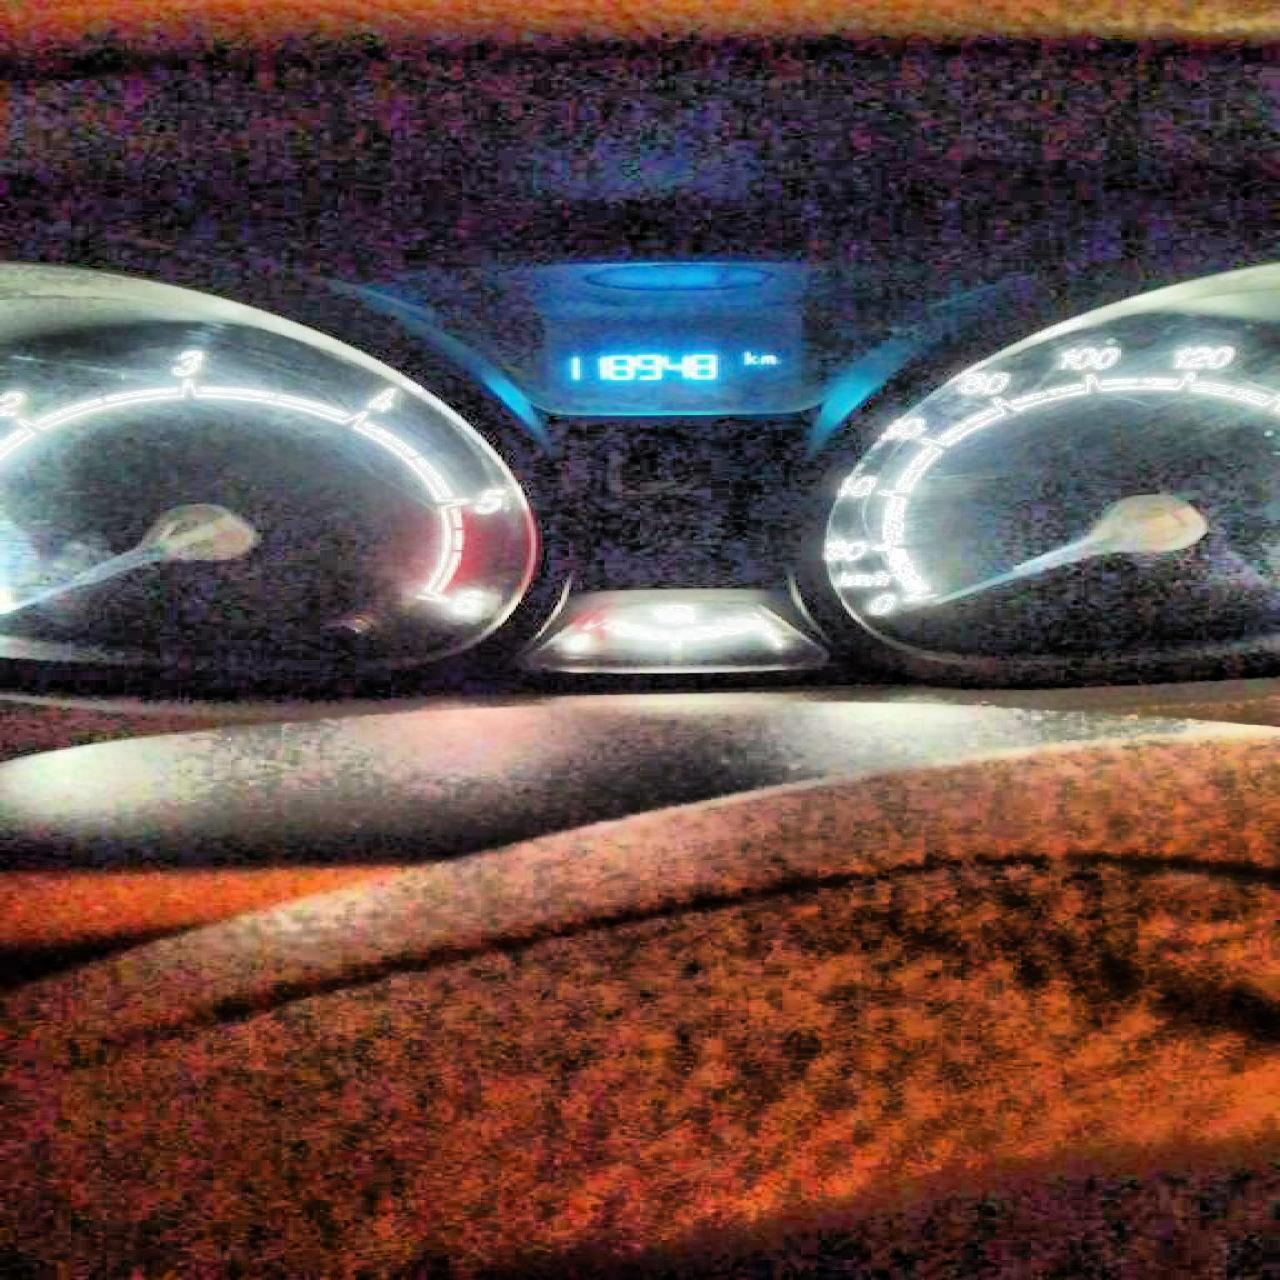1: (564, 352, 580, 380), (596, 355, 606, 380)
4: (662, 354, 687, 378)
8: (607, 352, 633, 382), (689, 352, 715, 380)
9: (634, 352, 662, 380)
X: (740, 348, 758, 364), (758, 354, 778, 364)
odometer: (542, 308, 809, 400)
